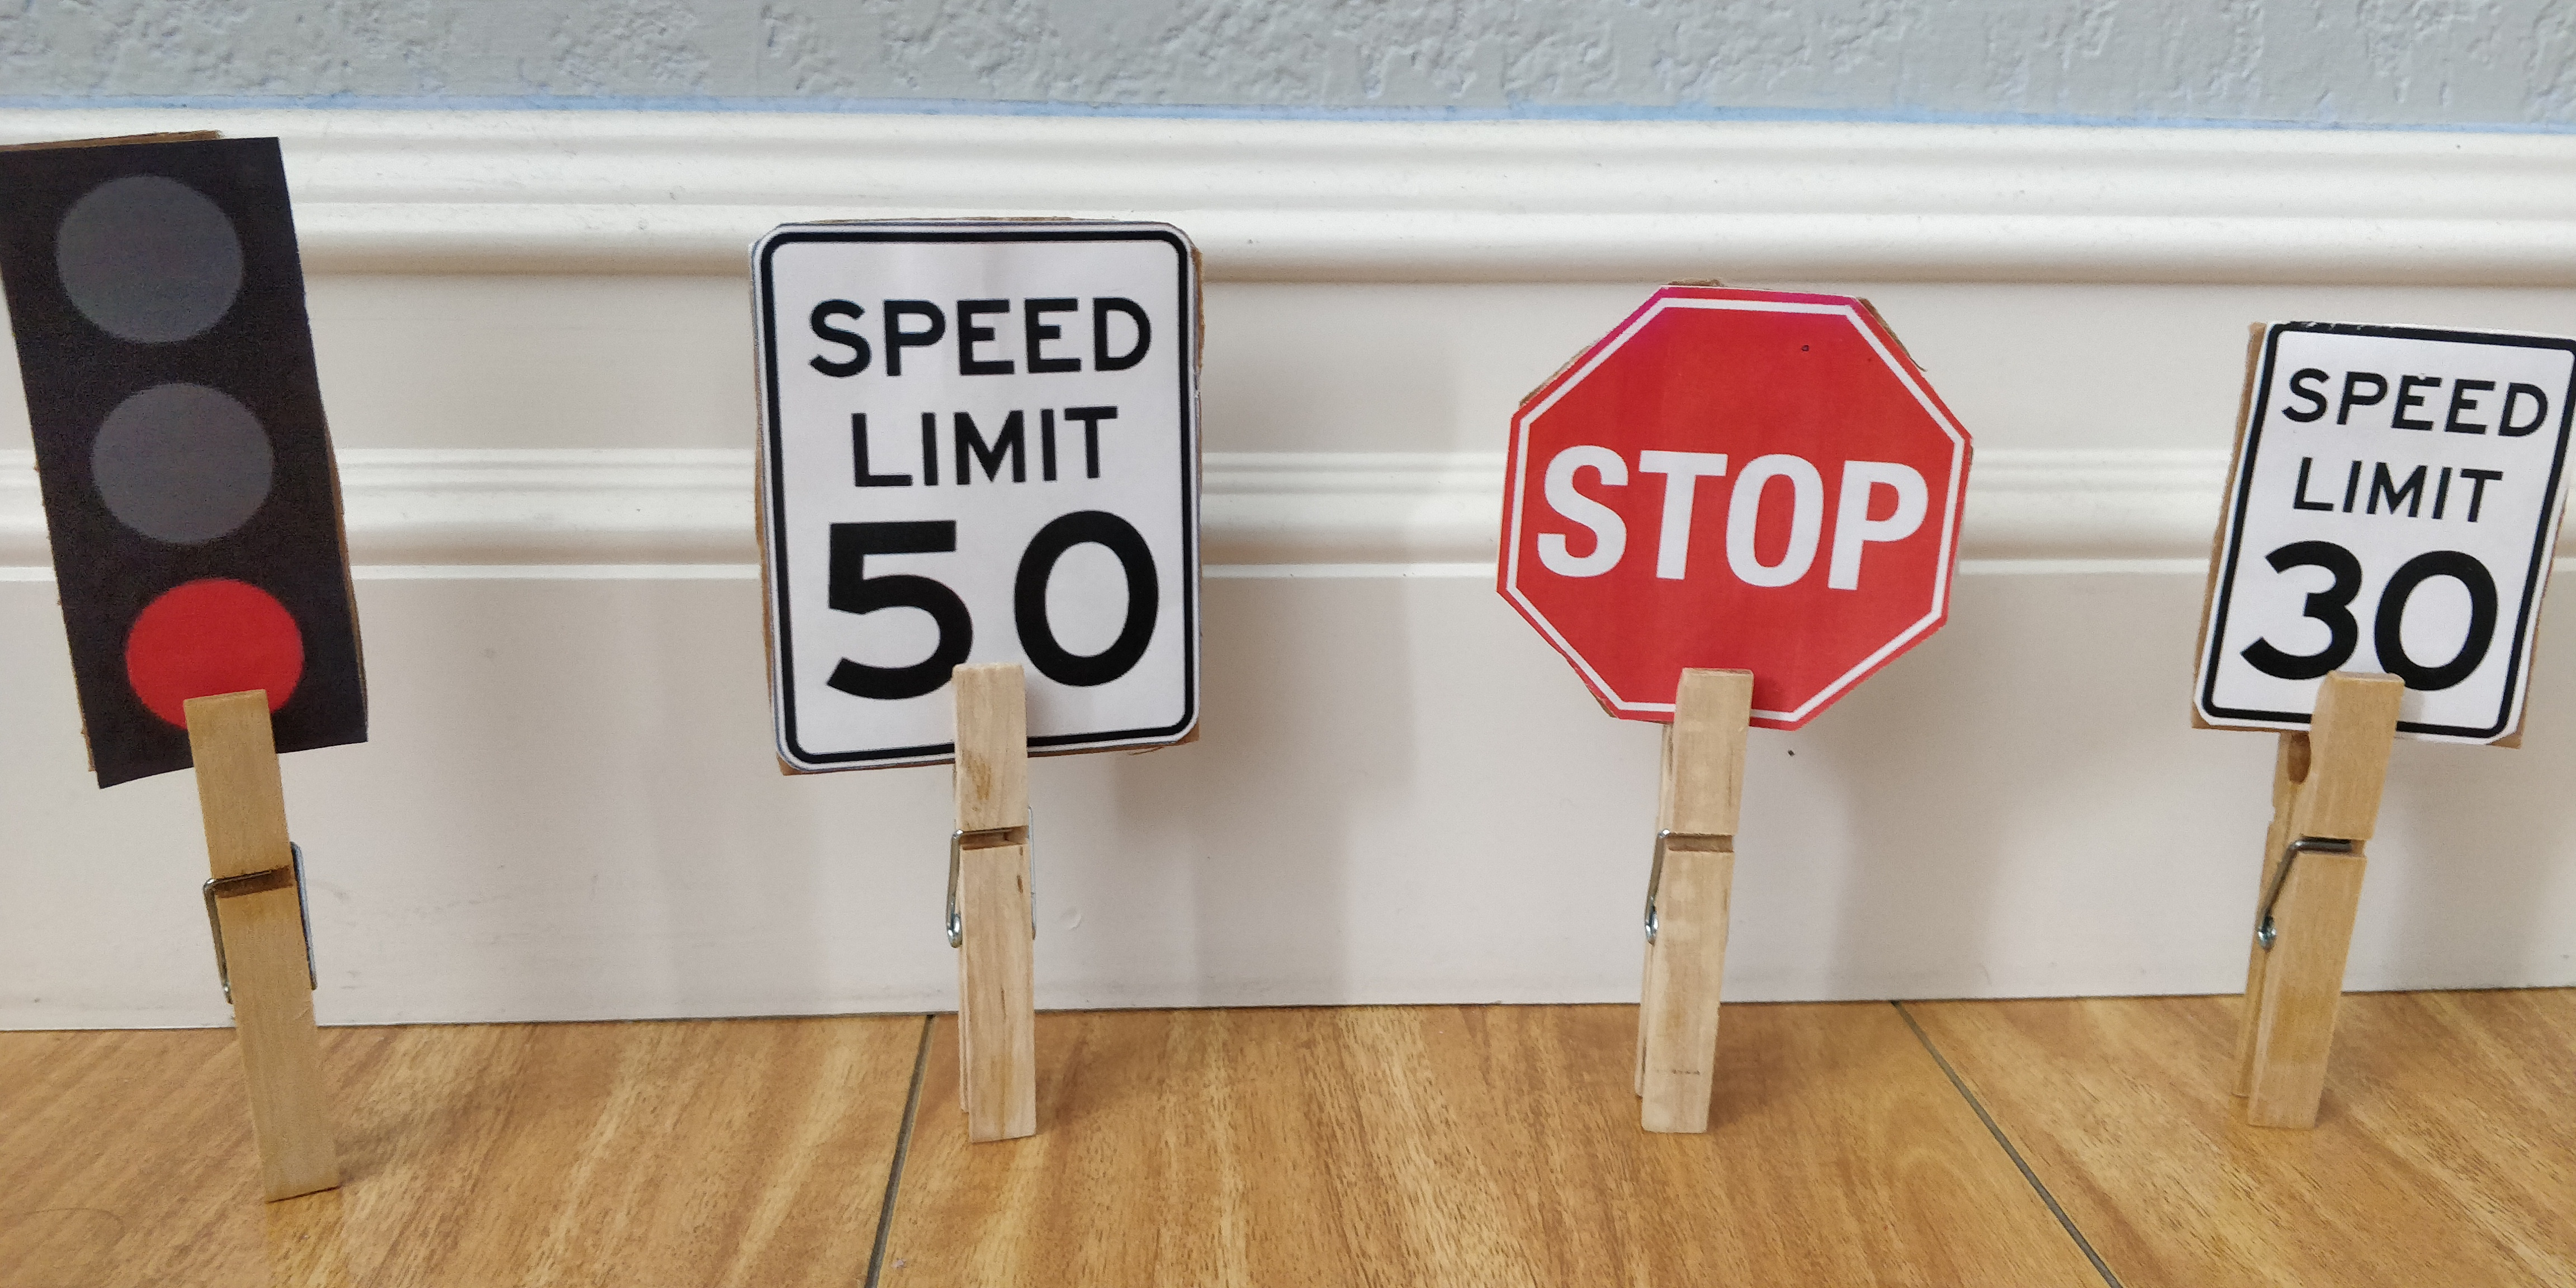Speed Limit 30: (2192, 319, 2576, 749)
Speed Limit 50: (749, 220, 1201, 772)
Stop Sign: (1495, 289, 1976, 729)
red light: (0, 133, 368, 787)
